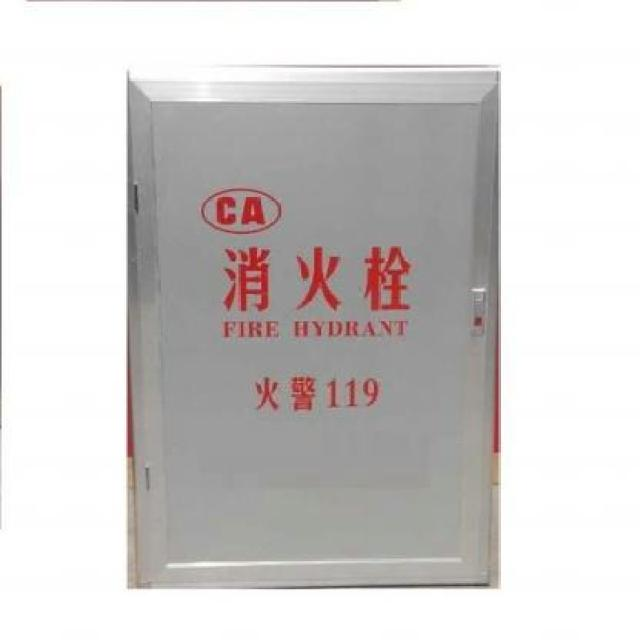firehydrant: (122, 57, 504, 598)
